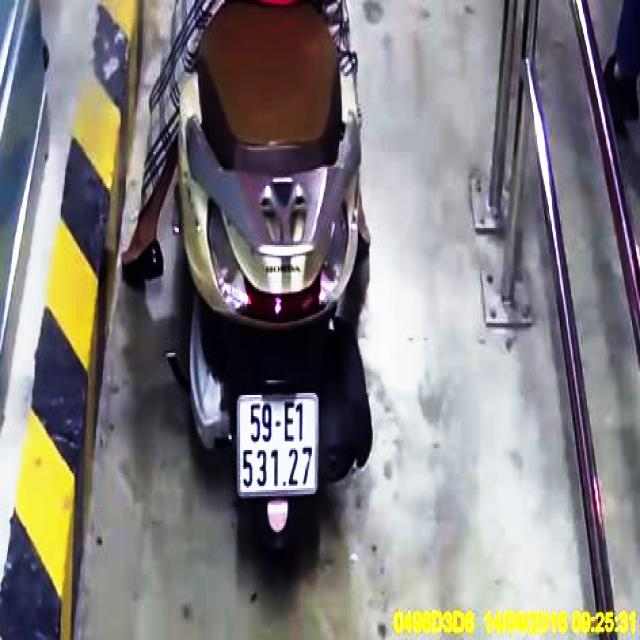license_plate: (238, 394, 321, 495)
